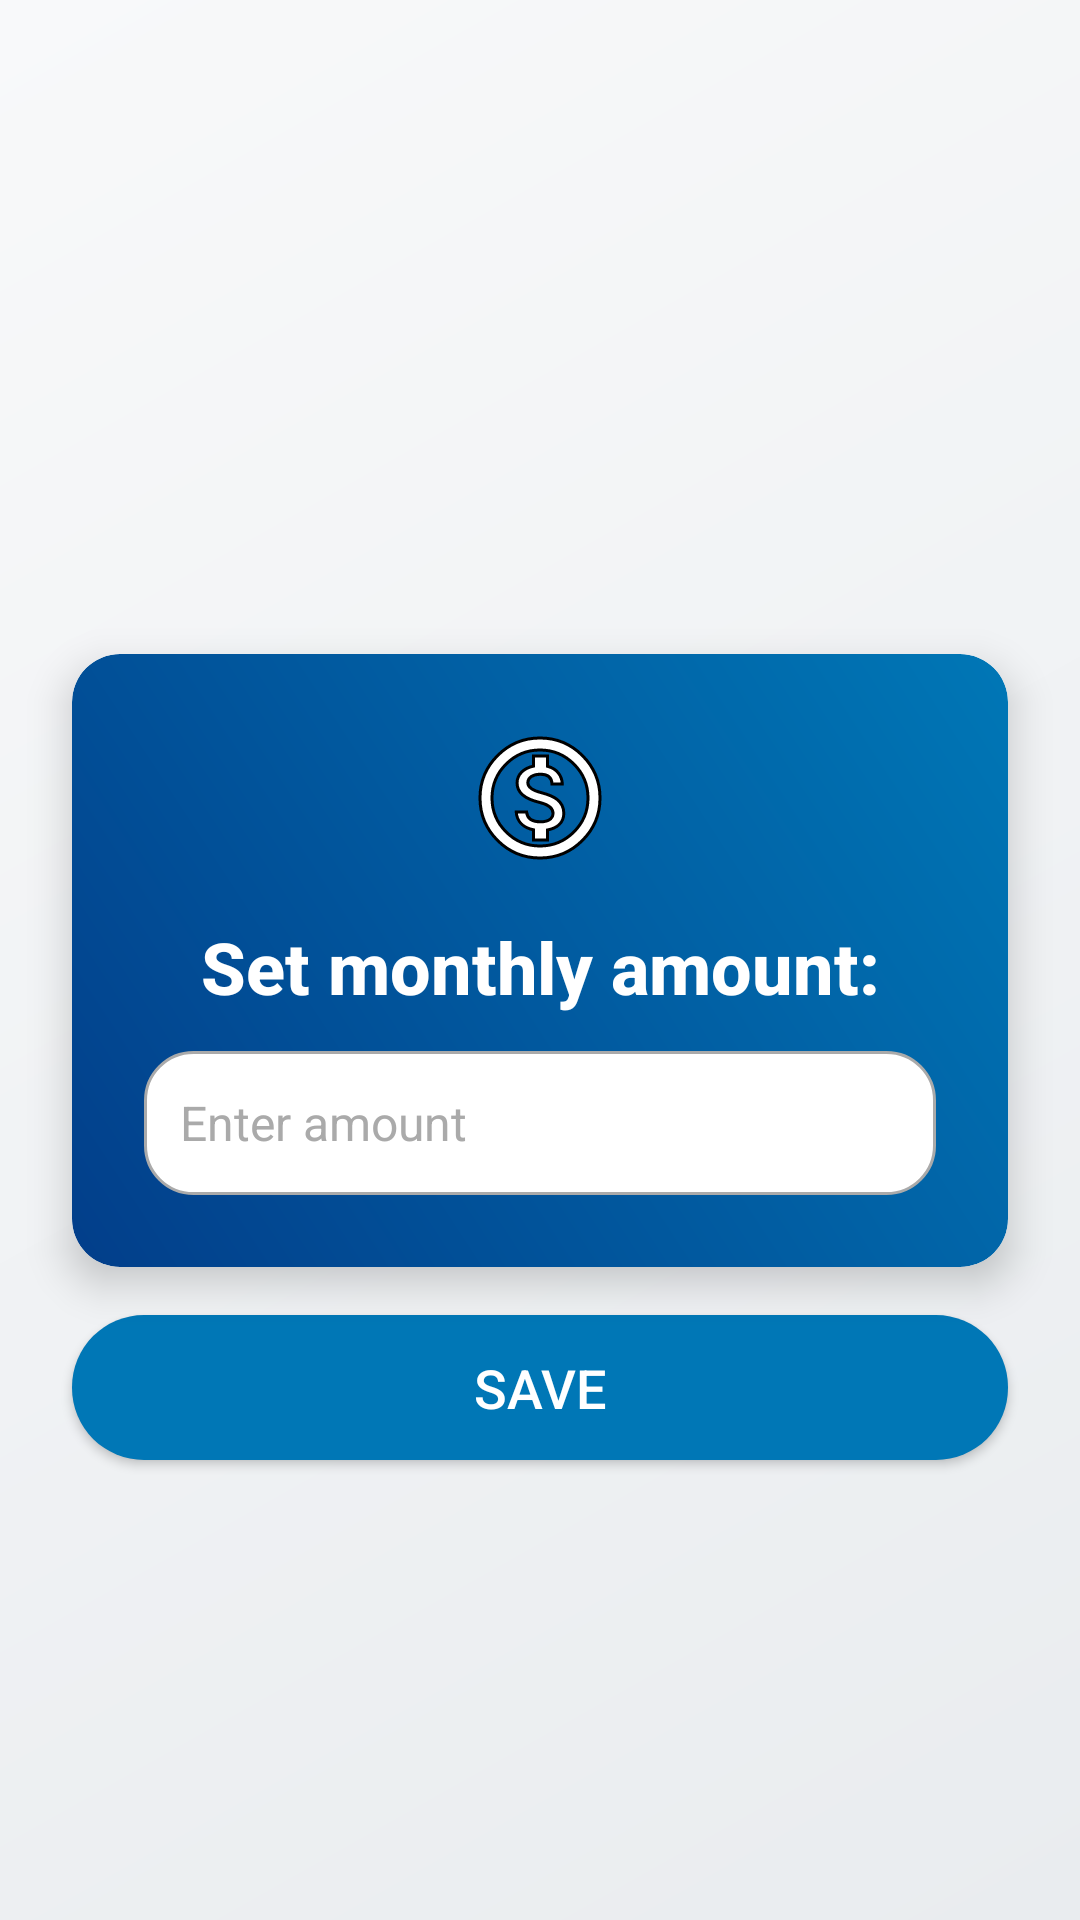

Icon bounding boxes for this 1080x1920 phone screenshot, format (x1, y1, x2, y2):
Currency Icon: (478, 736, 602, 860)
